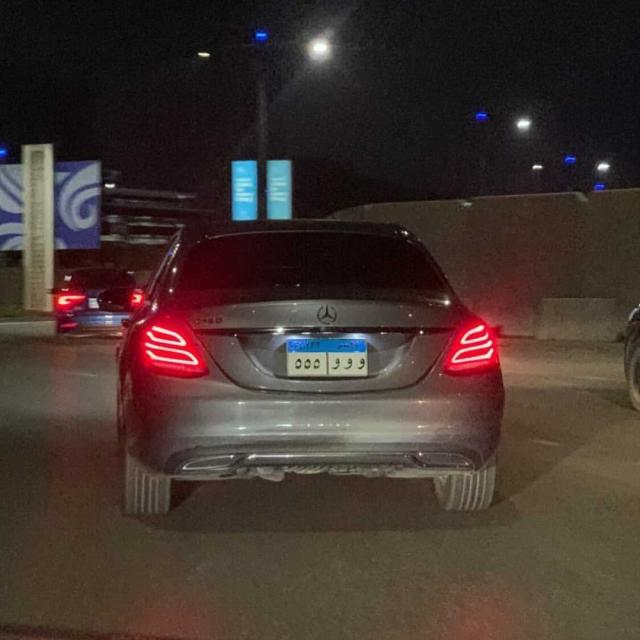License Plate: (286, 337, 368, 377)
